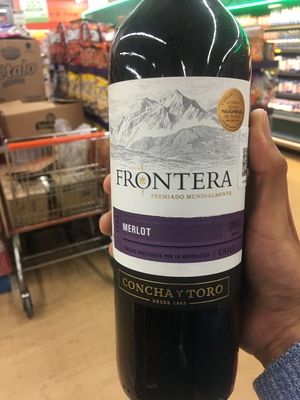frontera merlot: (87, 8, 266, 390)
